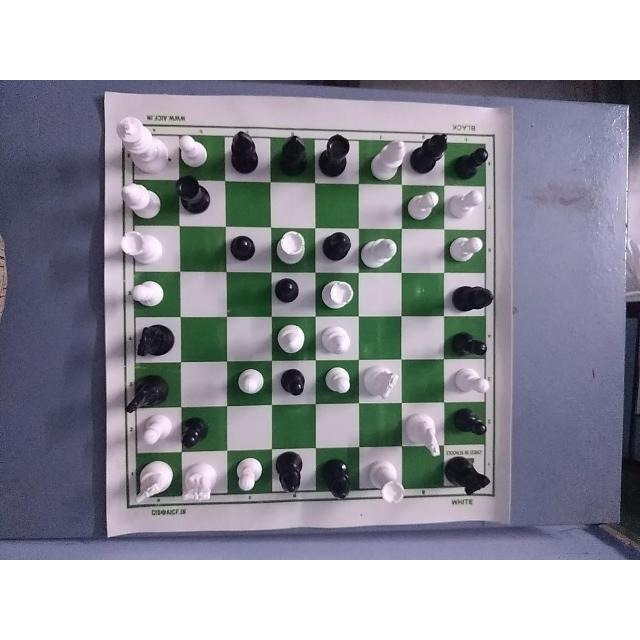black-bishop: (223, 124, 264, 182), (317, 448, 357, 504), (411, 124, 451, 179), (270, 447, 310, 499), (450, 282, 500, 318), (276, 126, 308, 180), (321, 227, 361, 269)
black-knight: (125, 370, 171, 420), (445, 456, 492, 496), (132, 322, 176, 361)
black-pawn: (449, 142, 491, 181), (279, 361, 313, 407), (452, 406, 491, 446), (448, 327, 492, 359), (223, 230, 261, 266), (272, 272, 304, 310), (178, 416, 210, 454)
black-rook: (316, 136, 356, 188), (176, 173, 212, 216)
white-bishop: (118, 178, 170, 222), (366, 137, 410, 187), (361, 234, 401, 267), (274, 319, 307, 359), (319, 326, 356, 360)
white-king: (115, 114, 169, 174)
white-knight: (128, 460, 172, 508), (355, 359, 402, 400), (176, 460, 216, 506), (404, 412, 445, 456)
white-pawn: (444, 365, 492, 401), (127, 273, 169, 313), (139, 410, 175, 454), (231, 450, 264, 494), (321, 363, 357, 402), (449, 232, 487, 266), (406, 190, 438, 228), (174, 136, 214, 166), (449, 190, 481, 223), (234, 370, 265, 398)
white-rook: (362, 458, 409, 501), (272, 228, 312, 275), (120, 230, 166, 270), (319, 272, 355, 315)
